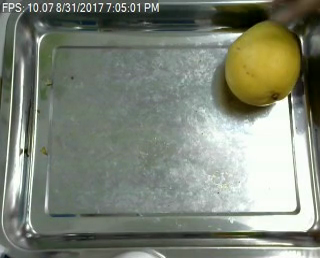Mango: (224, 18, 300, 105)
